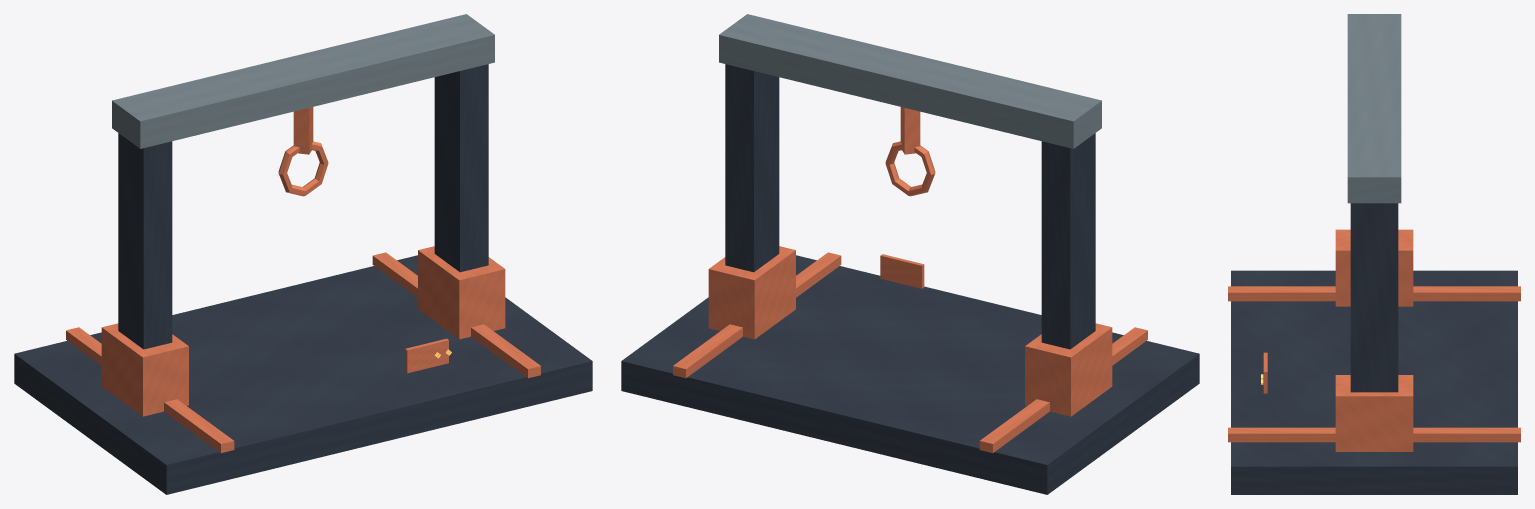
The model's file is atlas100-s027-a06.lod1.glb.
The picture shows the model from 3 angles, left to right: view 1: azimuth 30°, elevation 25°; view 2: azimuth 150°, elevation 25°; view 3: azimuth 270°, elevation 25°; orthographic projection. The views are drawn at different scales.
Visible parts, largest first — view 1: atlas100-s027-a06:part-000, atlas100-s027-a06:part-007, atlas100-s027-a06:part-003, atlas100-s027-a06:part-005, atlas100-s027-a06:part-006, atlas100-s027-a06:part-004, atlas100-s027-a06:part-002, atlas100-s027-a06:part-001, atlas100-s027-a06:part-009, atlas100-s027-a06:part-010, atlas100-s027-a06:part-008; view 2: atlas100-s027-a06:part-000, atlas100-s027-a06:part-007, atlas100-s027-a06:part-003, atlas100-s027-a06:part-005, atlas100-s027-a06:part-006, atlas100-s027-a06:part-004, atlas100-s027-a06:part-002, atlas100-s027-a06:part-001, atlas100-s027-a06:part-010, atlas100-s027-a06:part-009, atlas100-s027-a06:part-008; view 3: atlas100-s027-a06:part-000, atlas100-s027-a06:part-007, atlas100-s027-a06:part-005, atlas100-s027-a06:part-006, atlas100-s027-a06:part-001, atlas100-s027-a06:part-002, atlas100-s027-a06:part-004.
Boxes of the visible parts, x1,y1,x2,y2 form: atlas100-s027-a06:part-000: [14, 255, 592, 494]; atlas100-s027-a06:part-007: [112, 14, 494, 148]; atlas100-s027-a06:part-003: [118, 133, 172, 349]; atlas100-s027-a06:part-005: [434, 64, 488, 272]; atlas100-s027-a06:part-006: [418, 246, 505, 339]; atlas100-s027-a06:part-004: [101, 323, 188, 416]; atlas100-s027-a06:part-002: [372, 252, 540, 378]; atlas100-s027-a06:part-001: [66, 327, 234, 453]; atlas100-s027-a06:part-009: [278, 141, 328, 196]; atlas100-s027-a06:part-010: [405, 338, 448, 373]; atlas100-s027-a06:part-008: [293, 107, 313, 154]; atlas100-s027-a06:part-000: [621, 255, 1199, 494]; atlas100-s027-a06:part-007: [719, 14, 1101, 148]; atlas100-s027-a06:part-003: [1041, 133, 1095, 349]; atlas100-s027-a06:part-005: [725, 64, 779, 272]; atlas100-s027-a06:part-006: [708, 246, 795, 339]; atlas100-s027-a06:part-004: [1025, 323, 1112, 416]; atlas100-s027-a06:part-002: [673, 252, 841, 378]; atlas100-s027-a06:part-001: [979, 327, 1147, 453]; atlas100-s027-a06:part-010: [880, 254, 924, 288]; atlas100-s027-a06:part-009: [885, 141, 935, 196]; atlas100-s027-a06:part-008: [900, 107, 920, 154]; atlas100-s027-a06:part-000: [1231, 270, 1517, 494]; atlas100-s027-a06:part-007: [1347, 14, 1401, 203]; atlas100-s027-a06:part-005: [1350, 203, 1398, 392]; atlas100-s027-a06:part-006: [1335, 375, 1413, 451]; atlas100-s027-a06:part-001: [1228, 286, 1520, 301]; atlas100-s027-a06:part-002: [1228, 427, 1520, 442]; atlas100-s027-a06:part-004: [1335, 229, 1413, 306].
Bounding box in the file's own units: 3.88 × 2.78 × 2.45.
Materials: 4 (4 with a texture image).
